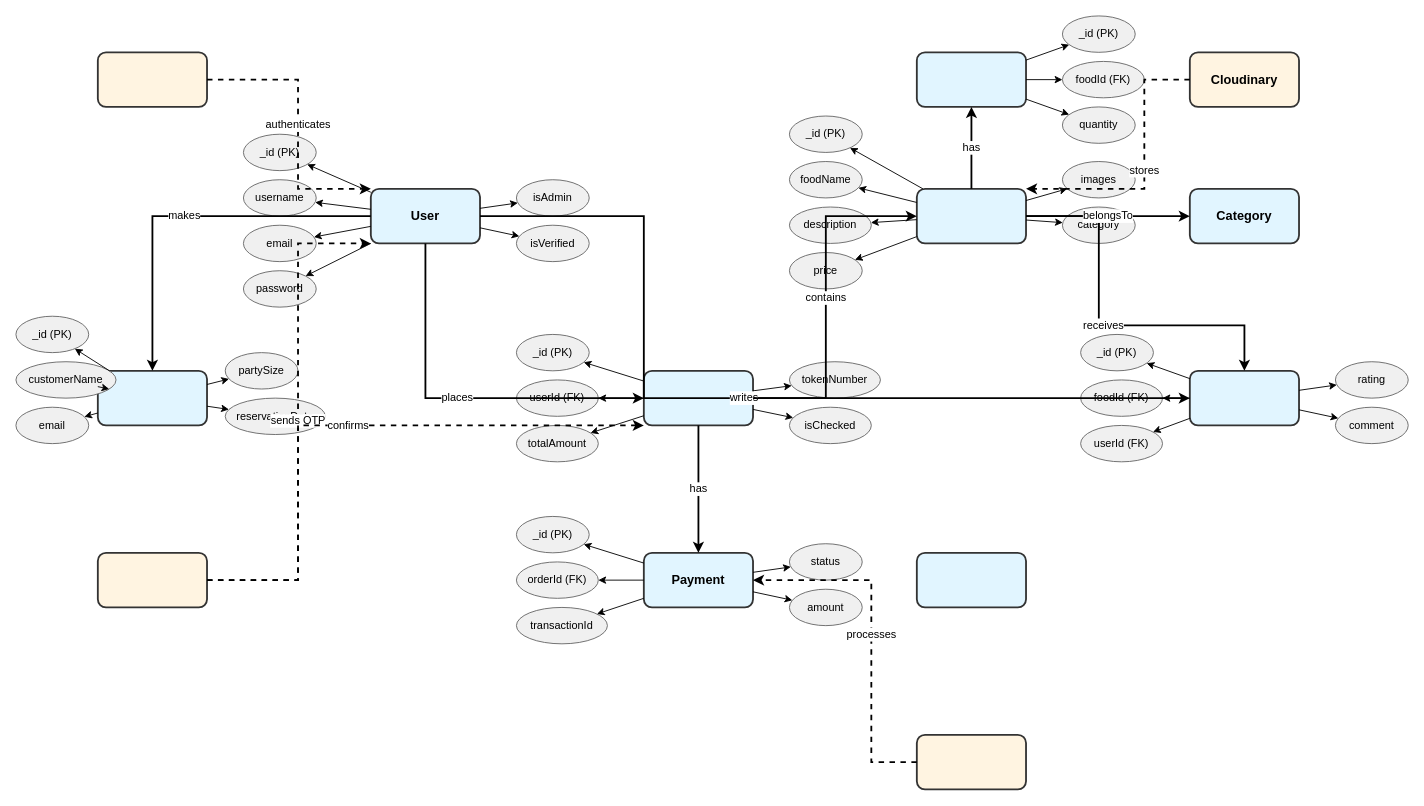
Some shapes in this 1424 by 806 pixel diagram are drawn without their labels. The shapes that lost their labels are listed below. From the top down, each one's box as (x1, y1, x2, y2) in pixels, then its label:
(96, 51, 207, 107): Firebase
(915, 51, 1026, 107): Stock
(915, 187, 1026, 244): FoodItem
(96, 369, 207, 426): Reservation
(642, 369, 753, 426): Order
(1188, 369, 1299, 426): Review
(96, 551, 207, 608): Nodemailer
(915, 551, 1026, 608): Supplier
(915, 733, 1026, 790): SSLCommerz
